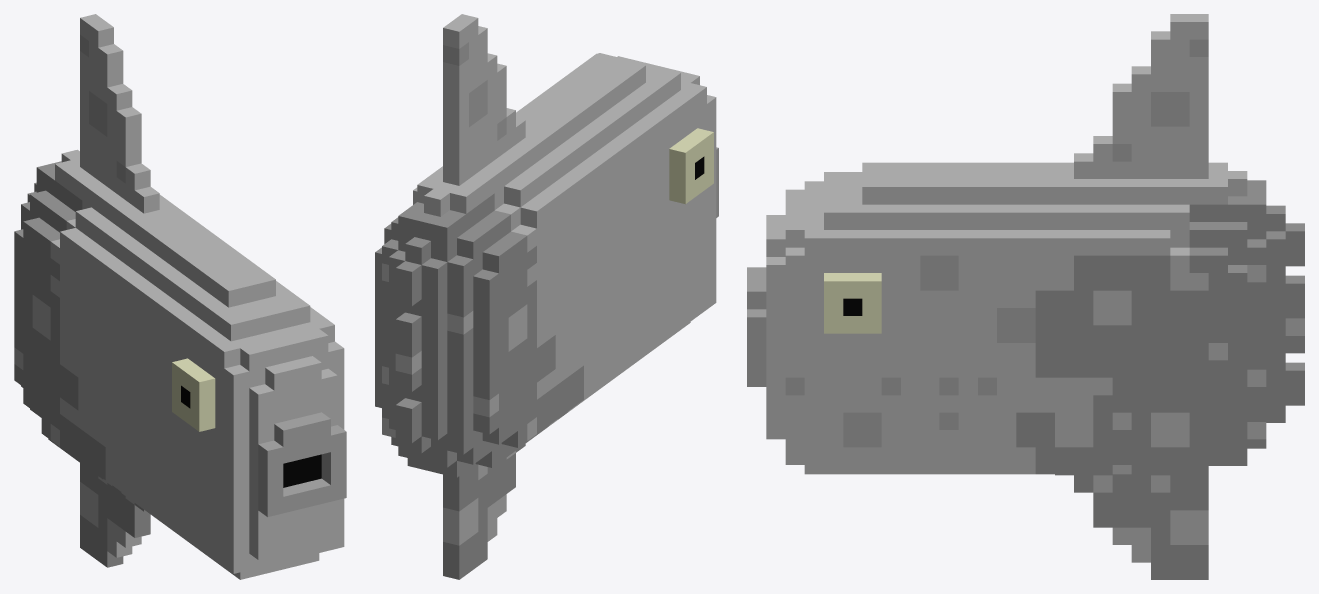
The model's file is PezLuna.fbx.
3 renders of one model, left to right at view 1: azimuth 30°, elevation 25°; view 2: azimuth 150°, elevation 25°; view 3: azimuth 270°, elevation 25°, orthographic. The views are drawn at different scales.
Visible parts, largest first — view 1: pezluna_9x32x29; view 2: pezluna_9x32x29; view 3: pezluna_9x32x29.
Part boxes in pixels (x1=…): pezluna_9x32x29: x1=14, y1=14, x2=346, y2=579; pezluna_9x32x29: x1=375, y1=14, x2=718, y2=579; pezluna_9x32x29: x1=747, y1=14, x2=1304, y2=579.
Bounding box in the file's own units: 290 × 1032 × 935.
